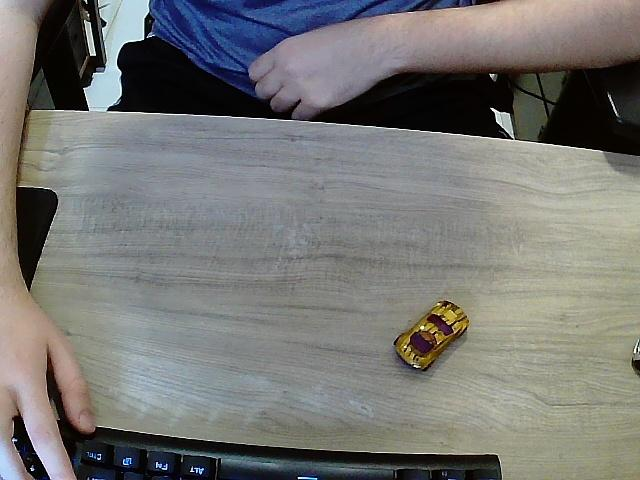Carro: (394, 300, 469, 373)
